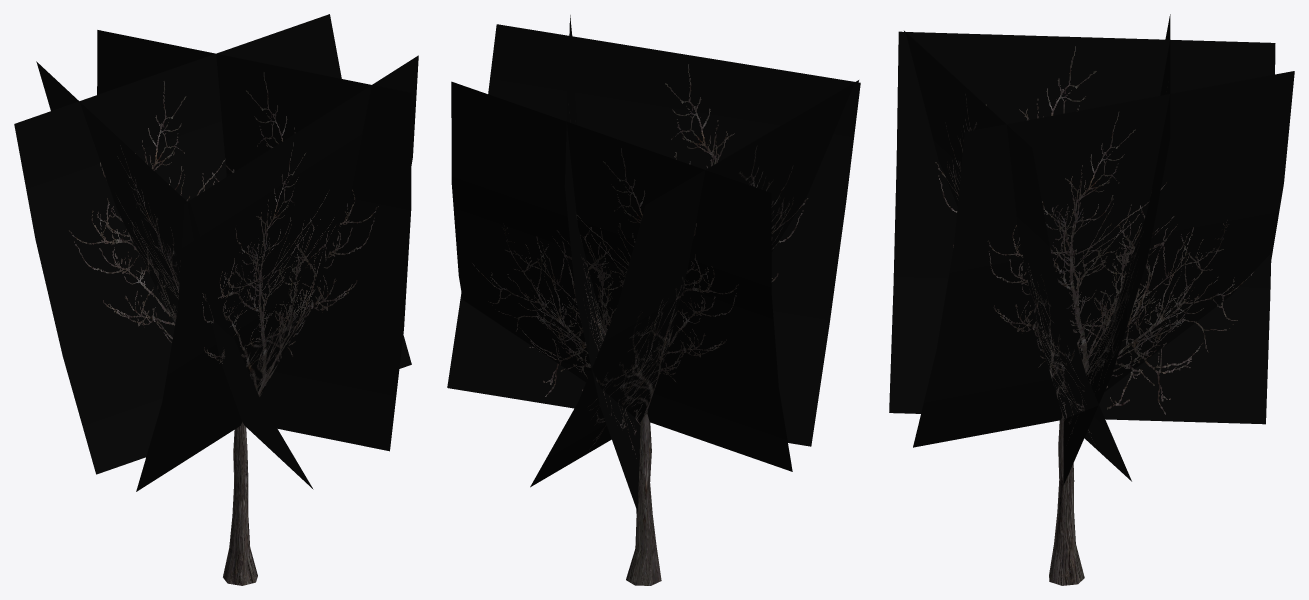
File: tree_dead1.obj
The picture shows the model from 3 angles, left to right: view 1: azimuth 30°, elevation 25°; view 2: azimuth 150°, elevation 25°; view 3: azimuth 270°, elevation 25°; orthographic projection. The views are drawn at different scales.
Bounding box in the file's own units: 5.54 × 7.58 × 5.45.
